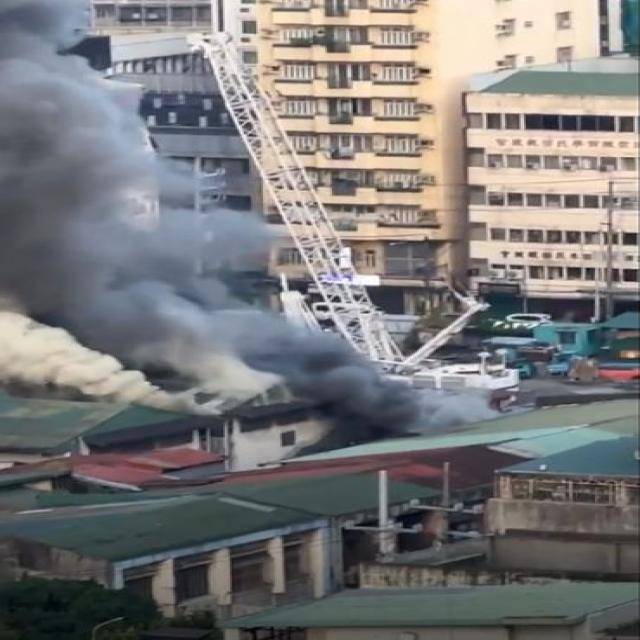Smoke: (0, 0, 451, 431), (0, 296, 218, 414)
